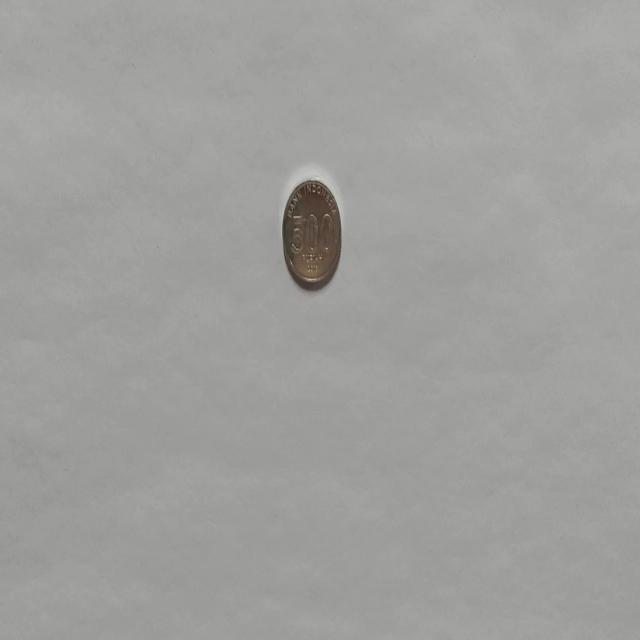lima ratus rupiah: (281, 176, 342, 291)
